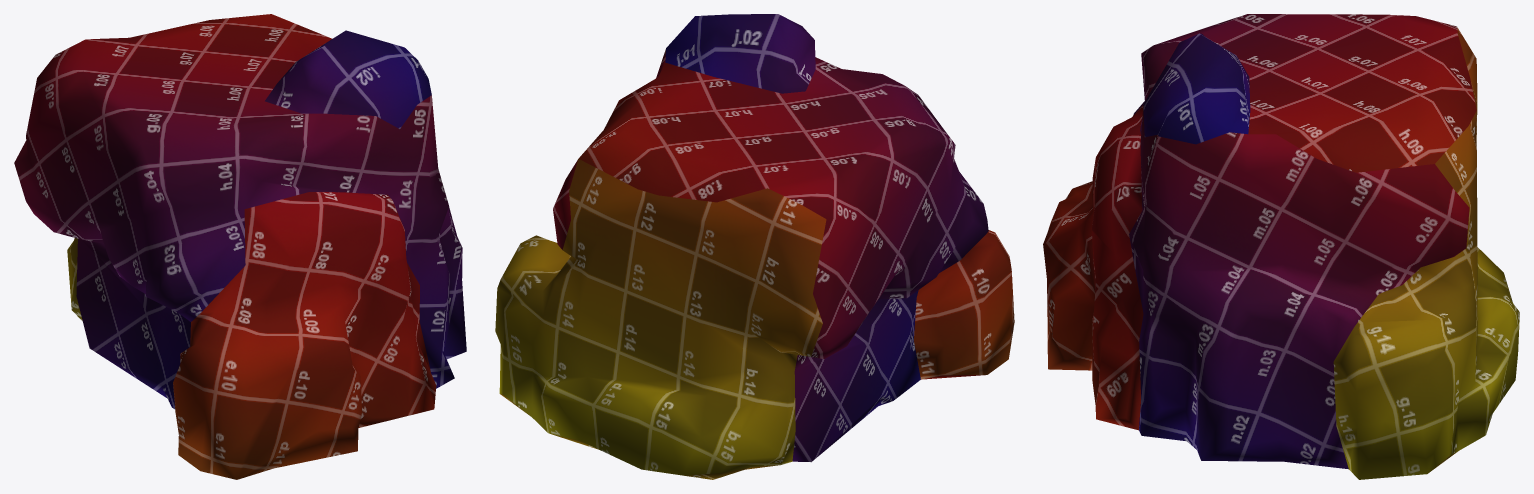
Rendered from Cliffs_01.fbx.
3 views of the same model, side by side, from view 1: azimuth 30°, elevation 25°; view 2: azimuth 150°, elevation 25°; view 3: azimuth 270°, elevation 25° (orthographic). The views are drawn at different scales.
Parts seen in each view (by area): view 1: Cliffs_01; view 2: Cliffs_01; view 3: Cliffs_01.
Part boxes in pixels (x1=…): Cliffs_01: x1=14, y1=14, x2=466, y2=479; Cliffs_01: x1=495, y1=14, x2=1014, y2=479; Cliffs_01: x1=1043, y1=14, x2=1519, y2=479.
Size of the model in its own units: 1.38 by 1.21 by 1.47.
